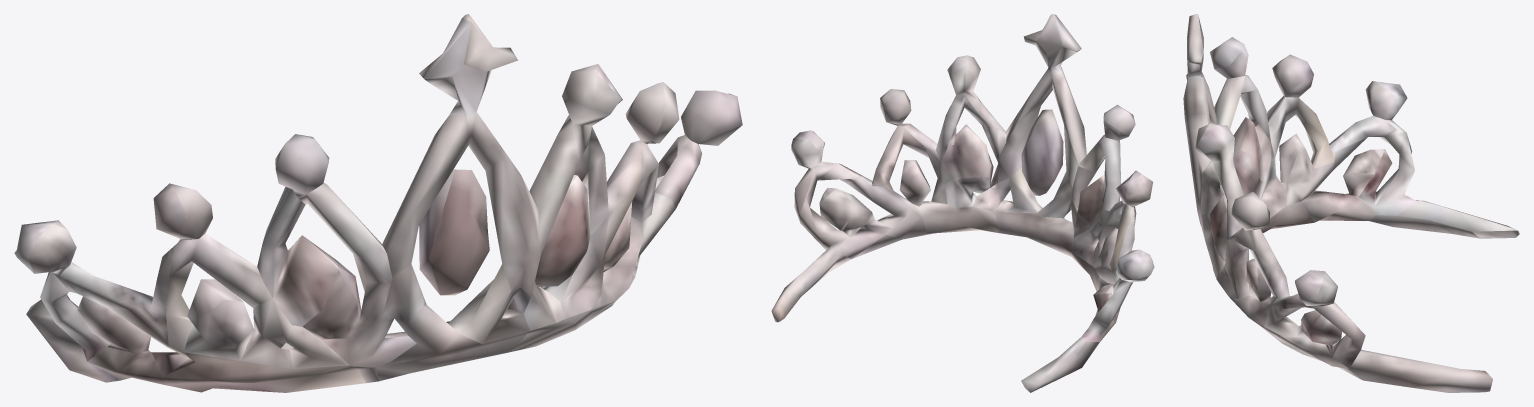
3 renders of one model, left to right at view 1: azimuth 30°, elevation 25°; view 2: azimuth 150°, elevation 25°; view 3: azimuth 270°, elevation 25°, orthographic. The views are drawn at different scales.
Visible parts, largest first — view 1: Silver-Tiara-22; view 2: Silver-Tiara-22; view 3: Silver-Tiara-22.
Boxes of the visible parts, box(x1,y1,x2,y2) form: Silver-Tiara-22: box(14, 14, 742, 392); Silver-Tiara-22: box(771, 14, 1154, 392); Silver-Tiara-22: box(1183, 14, 1519, 392).
Size of the model in its own units: 0.3058 by 0.1907 by 0.1975.
Materials: 1 (1 with a texture image).
